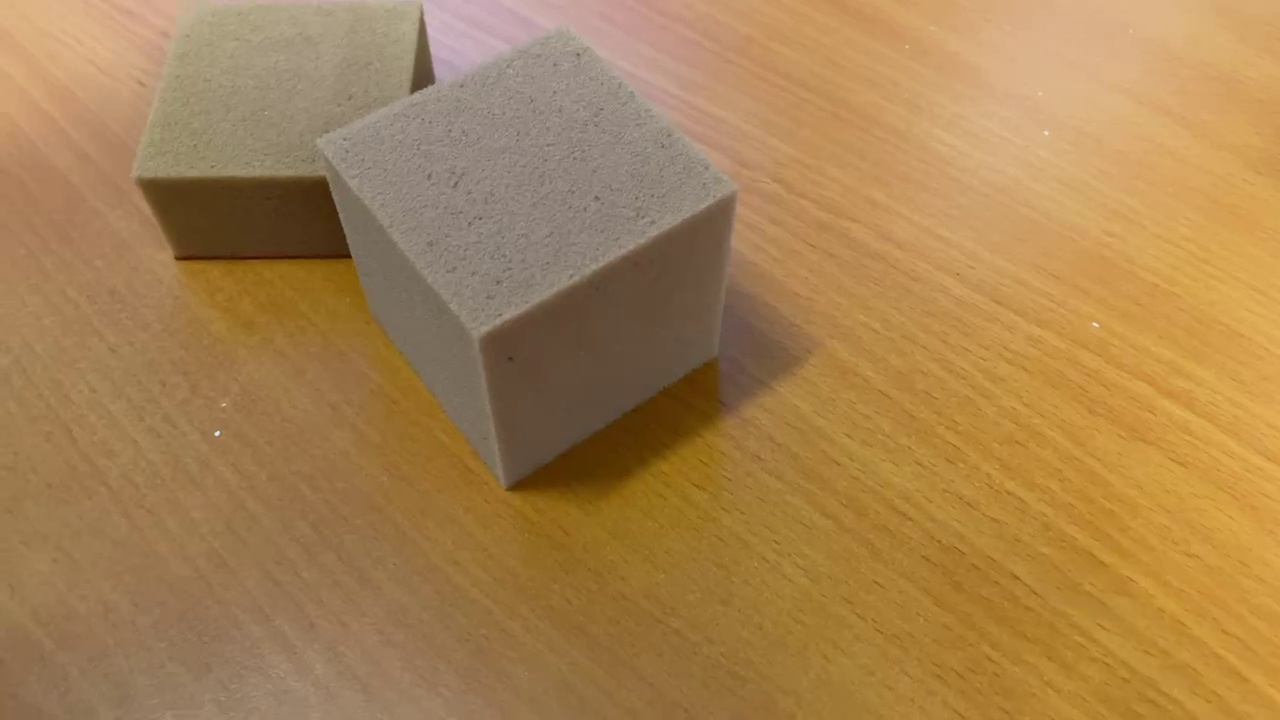Cube: (311, 17, 743, 497)
Cube_short: (125, 1, 442, 266)
